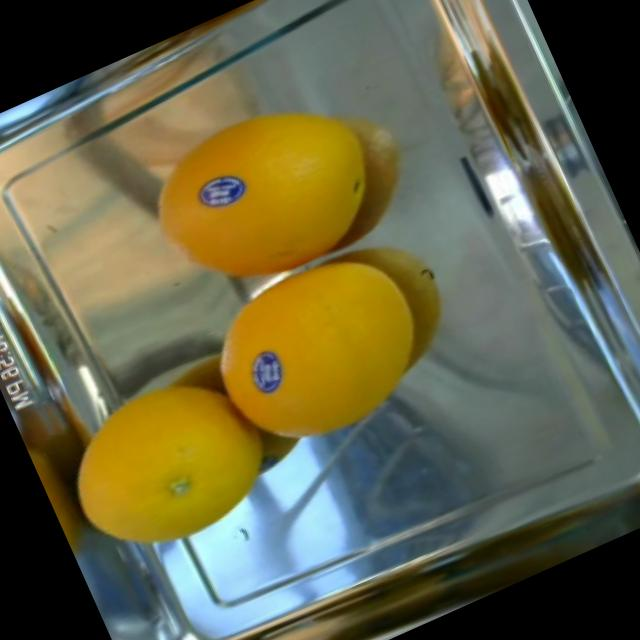Fruit: (22, 338, 298, 594)
